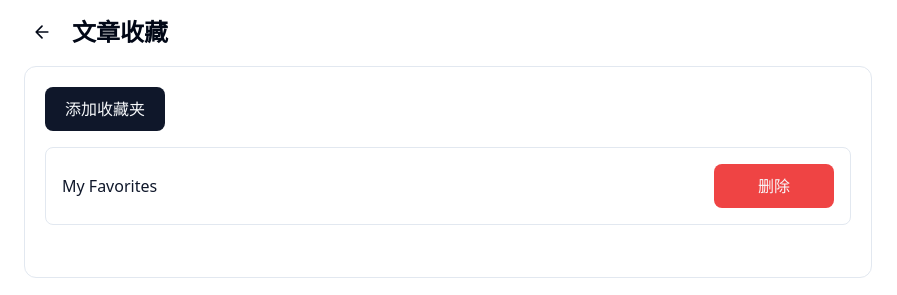
Test: Article list interaction (S010) › Virtual feed article list (S026) › navigating from virtual feed item opens article list page
Click the link "My Favorites".
click(110, 186)  # box [62,174,157,198]
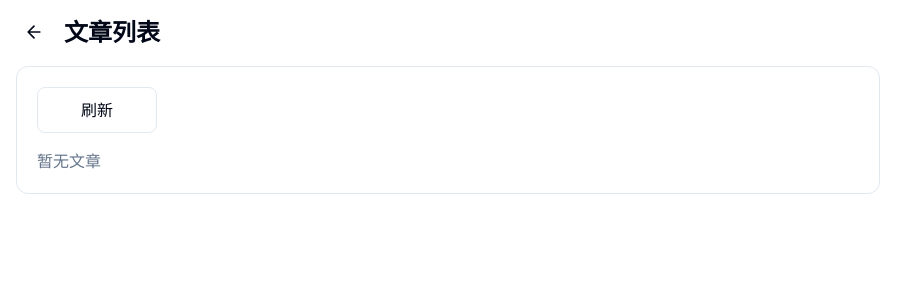
Expected: the heading "文章列表" is shown, [64,16,160,48]
Expected: the text "暂无文章" is shown, [37,150,101,172]
